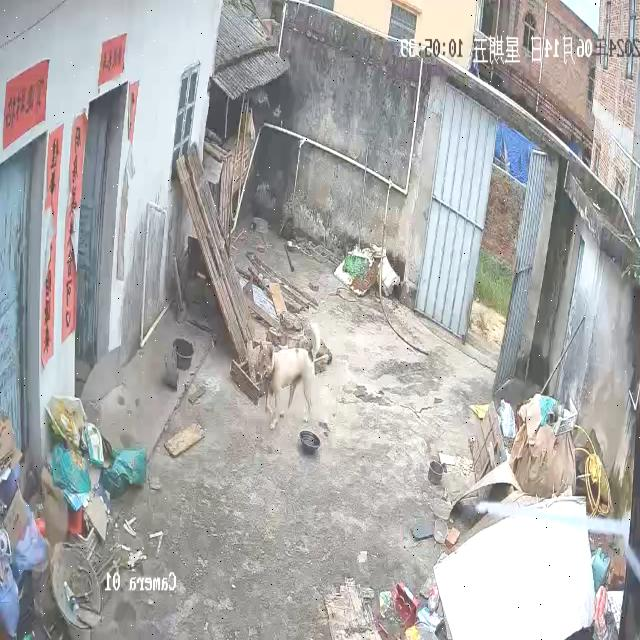dog: (256, 320, 322, 432)
